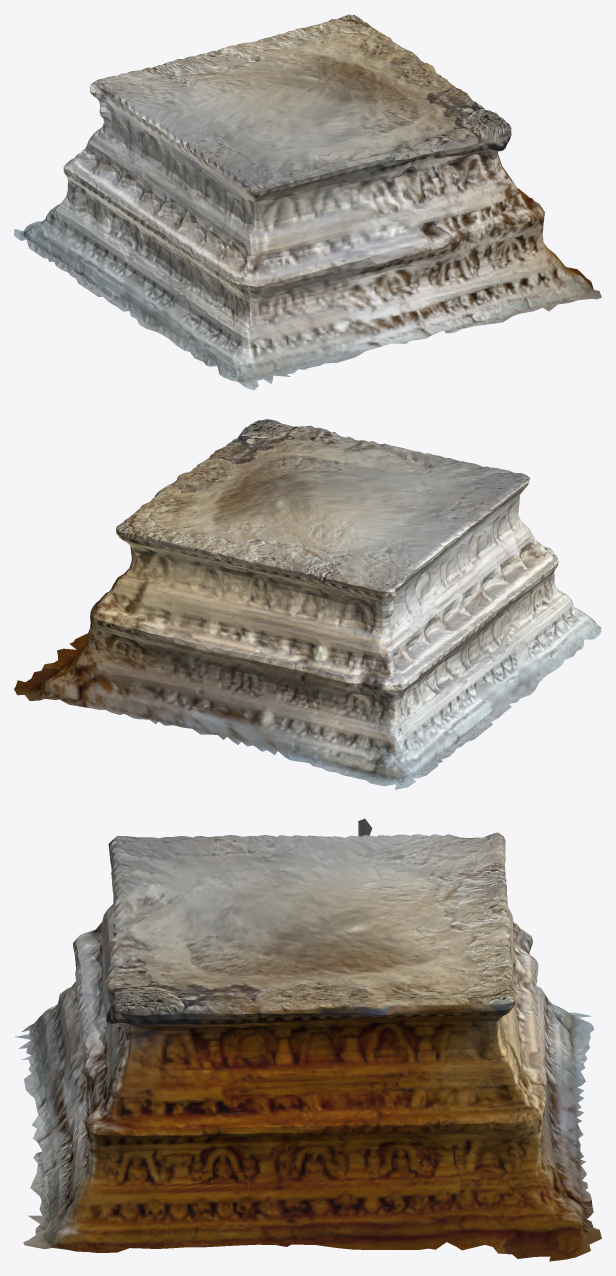
Rendered from Stupid .glb.
The picture shows the model from 3 angles, top to bottom: view 1: azimuth 30°, elevation 25°; view 2: azimuth 150°, elevation 25°; view 3: azimuth 270°, elevation 25°; orthographic projection. The views are drawn at different scales.
Visible parts, largest first — view 1: Mesh; view 2: Mesh; view 3: Mesh.
Part boxes in pixels (x1,y1,x2,y2): Mesh: (14,14,601,390); Mesh: (14,419,601,789); Mesh: (15,818,601,1261).
Size of the model in its own units: 3.64 by 1.28 by 3.06.
Materials: 1 (1 with a texture image).
